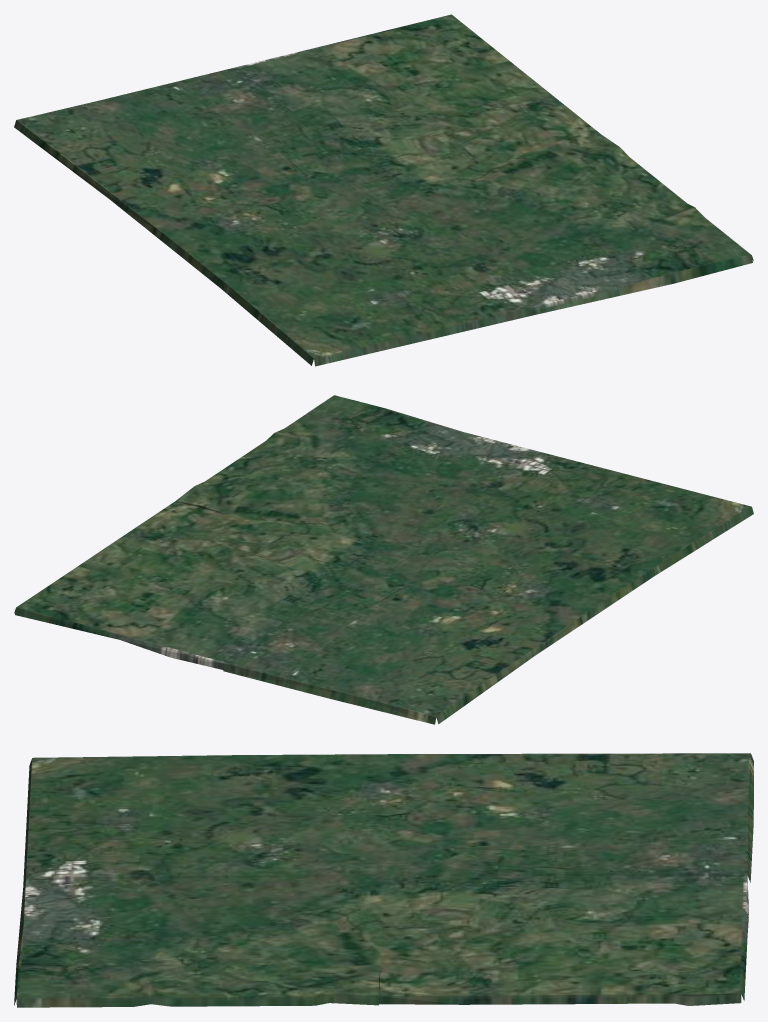
File: BuildingMesh-00506.gltf
3 views of the same model, one above another, from view 1: azimuth 30°, elevation 25°; view 2: azimuth 150°, elevation 25°; view 3: azimuth 270°, elevation 25° (orthographic). The views are drawn at different scales.
Visible parts, largest first — view 1: BuildingMesh-00506; view 2: BuildingMesh-00506; view 3: BuildingMesh-00506.
Boxes of the visible parts, left/top/right/bottom form: BuildingMesh-00506: left=14, top=14, right=753, bottom=366; BuildingMesh-00506: left=14, top=395, right=753, bottom=724; BuildingMesh-00506: left=14, top=753, right=753, bottom=1007.
Bounding box in the file's own units: 1656 × 70.01 × 2042.
1 material, 1 textured.
